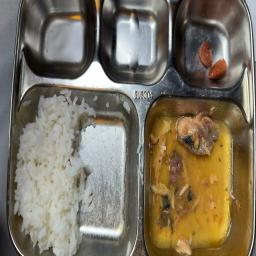25_fish: (144, 97, 242, 254)
25_nuts: (180, 10, 238, 84)
50_rice: (16, 83, 134, 256)
empty: (103, 6, 161, 76), (37, 1, 88, 73)
